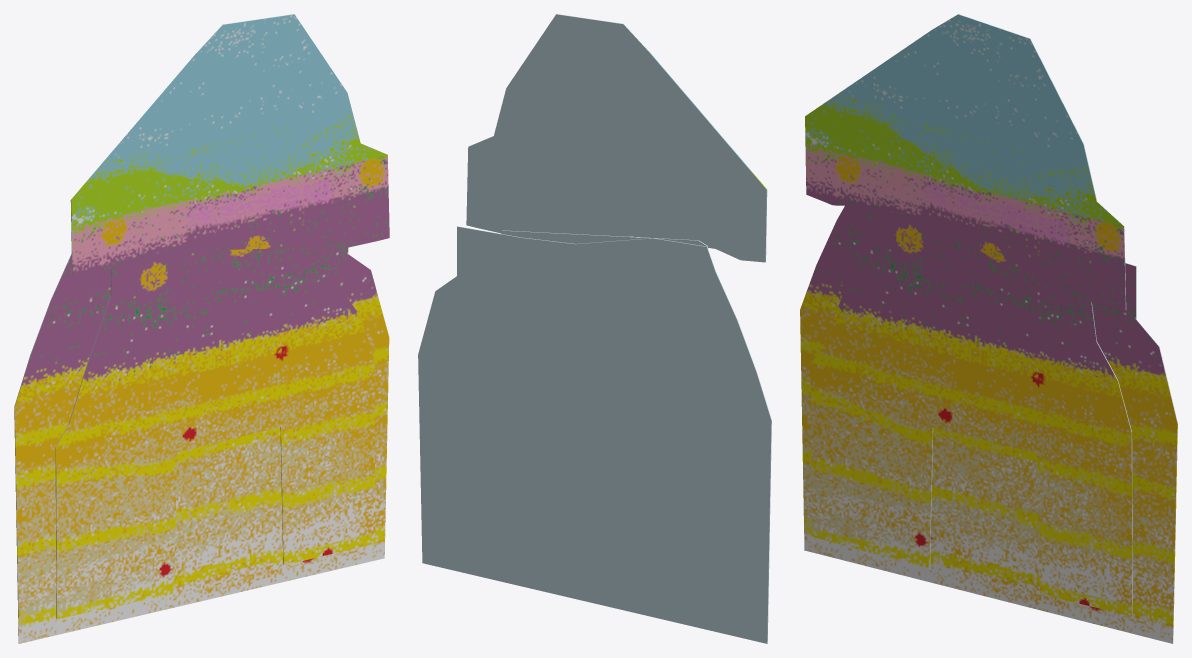
The model's file is village.fbx_village_house_8.fbx.
3 views of the same model, side by side, from view 1: azimuth 30°, elevation 25°; view 2: azimuth 150°, elevation 25°; view 3: azimuth 330°, elevation 25° (orthographic). The views are drawn at different scales.
Parts seen in each view (by area): view 1: door.005, roof.009, house.009; view 2: house.009, roof.009, door.005; view 3: door.005, roof.009, house.009.
Boxes of the visible parts, left/top/right/bottom form: door.005: left=55, top=248, right=375, bottom=618; roof.009: left=70, top=14, right=389, bottom=277; house.009: left=14, top=247, right=389, bottom=643; house.009: left=418, top=226, right=771, bottom=643; roof.009: left=466, top=14, right=767, bottom=262; door.005: left=501, top=230, right=708, bottom=248; door.005: left=810, top=209, right=1132, bottom=616; roof.009: left=805, top=14, right=1126, bottom=310; house.009: left=800, top=206, right=1177, bottom=643.
Bounding box in the file's own units: 436 × 666 × 53.1.
